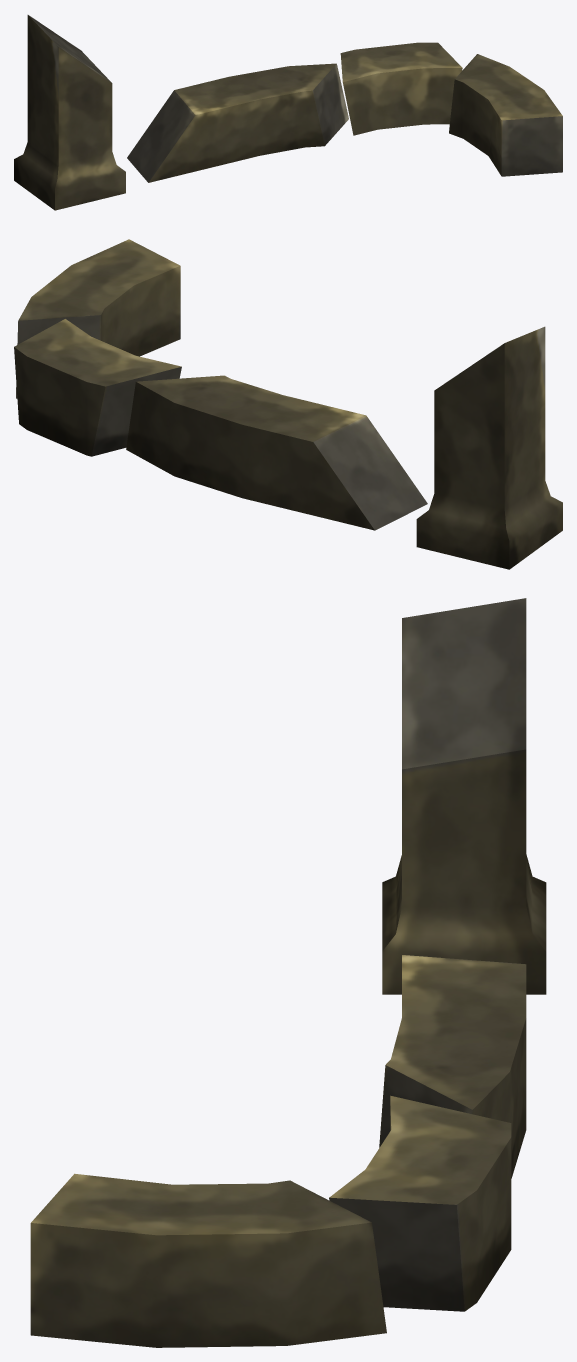
Rendered from BrokeColumn2b.fbx.
The picture shows the model from 3 angles, top to bottom: view 1: azimuth 30°, elevation 25°; view 2: azimuth 150°, elevation 25°; view 3: azimuth 270°, elevation 25°; orthographic projection. The views are drawn at different scales.
Visible parts, largest first — view 1: polySurface9; view 2: polySurface9; view 3: polySurface9.
Boxes of the visible parts, box(x1,y1,x2,y2) form: polySurface9: box(14, 15, 562, 210); polySurface9: box(14, 239, 562, 569); polySurface9: box(30, 598, 546, 1347).
Size of the model in its own units: 4.02 by 1.49 by 2.07.
